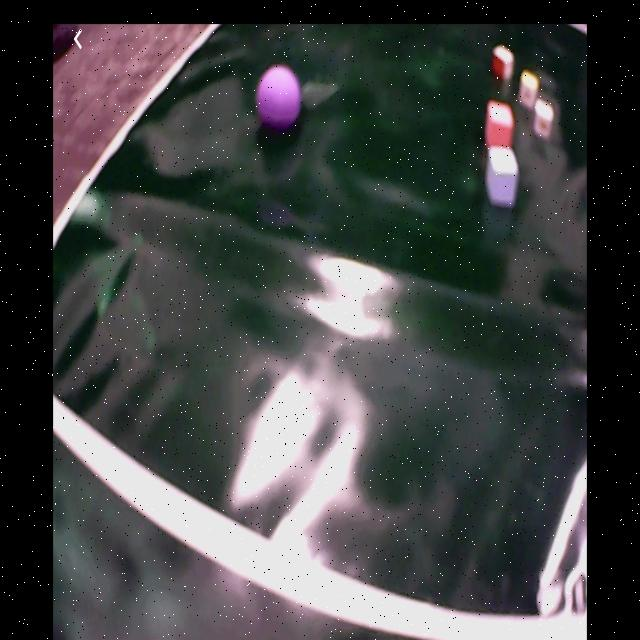ball: (256, 67, 301, 128)
